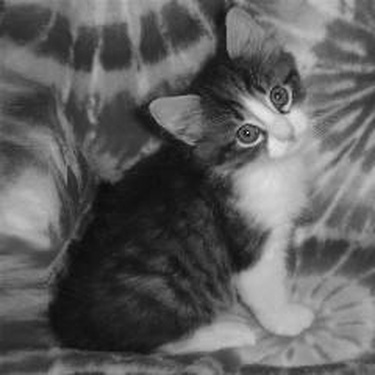cat: (41, 4, 317, 358)
